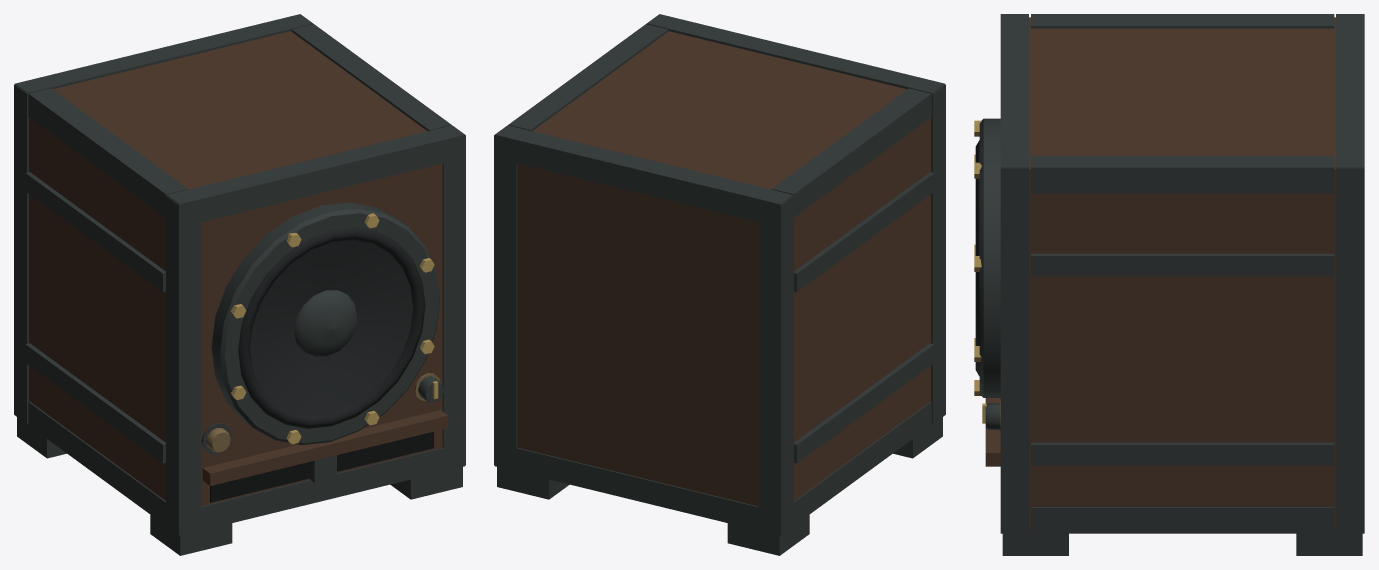
The model's file is Aestrin-woofer.glb.
3 renders of one model, left to right at view 1: azimuth 30°, elevation 25°; view 2: azimuth 150°, elevation 25°; view 3: azimuth 270°, elevation 25°, orthographic. The views are drawn at different scales.
Parts seen in each view (by area): view 1: Oak crate, Woofer — cone, Woofer — bezel ring, Iron edge front left, Iron edge front top, Iron edge front right, Woofer — rubber surround, Iron edge left top, Iron edge front bottom, Iron edge back right, Port top rail, Iron edge back top (+11 smaller); view 2: Oak crate, Iron edge back right, Iron edge back top, Iron edge back left, Iron edge left top, Iron edge back bottom, Iron edge front left, Iron edge front top, Iron edge left bottom, Iron edge right top, Side strap left lower, Side strap left upper (+3 smaller); view 3: Oak crate, Iron edge right top, Iron edge back left, Iron edge front right, Iron edge right bottom, Side strap right upper, Side strap right lower, Woofer — bezel ring, Iron edge left top, Iron edge front top, Iron edge back top, Iron-shod foot 4 (+4 smaller).
Part boxes in pixels (x1=…): Oak crate: x1=29, y1=31, x2=442, y2=506; Woofer — cone: x1=250, y1=240, x2=413, y2=415; Woofer — bezel ring: x1=211, y1=202, x2=440, y2=445; Iron edge front left: x1=166, y1=195, x2=201, y2=535; Iron edge front top: x1=166, y1=125, x2=465, y2=226; Iron edge front right: x1=442, y1=135, x2=465, y2=470; Woofer — rubber surround: x1=238, y1=227, x2=425, y2=428; Iron edge left top: x1=28, y1=88, x2=188, y2=217; Iron edge front bottom: x1=179, y1=446, x2=464, y2=535; Iron edge back right: x1=14, y1=84, x2=28, y2=423; Port top rail: x1=202, y1=410, x2=448, y2=485; Iron edge back top: x1=14, y1=14, x2=313, y2=94; Oak crate: x1=517, y1=31, x2=930, y2=506; Iron edge back right: x1=758, y1=195, x2=793, y2=535; Iron edge back top: x1=494, y1=125, x2=793, y2=224; Iron edge back left: x1=494, y1=135, x2=517, y2=469; Iron edge left top: x1=771, y1=88, x2=931, y2=217; Iron edge back bottom: x1=495, y1=446, x2=780, y2=535; Iron edge front left: x1=931, y1=84, x2=945, y2=423; Iron edge front top: x1=646, y1=14, x2=945, y2=93; Iron edge left bottom: x1=794, y1=401, x2=931, y2=525; Iron edge right top: x1=508, y1=24, x2=668, y2=131; Side strap left lower: x1=794, y1=343, x2=934, y2=463; Side strap left upper: x1=794, y1=172, x2=934, y2=292; Oak crate: x1=1029, y1=17, x2=1335, y2=530; Iron edge right top: x1=1031, y1=155, x2=1334, y2=193; Iron edge back left: x1=1336, y1=168, x2=1364, y2=532; Iron edge front right: x1=1000, y1=168, x2=1028, y2=532; Iron edge right bottom: x1=1031, y1=507, x2=1334, y2=533; Side strap right upper: x1=1031, y1=253, x2=1334, y2=276; Side strap right lower: x1=1031, y1=442, x2=1334, y2=465; Woofer — bezel ring: x1=979, y1=118, x2=1000, y2=397; Iron edge left top: x1=1031, y1=14, x2=1334, y2=28; Iron edge front top: x1=1000, y1=14, x2=1028, y2=168; Iron edge back top: x1=1336, y1=14, x2=1364, y2=168; Iron-shod foot 4: x1=1296, y1=530, x2=1362, y2=555.
Size of the model in its own units: 0.392 by 0.453 by 0.4116.
